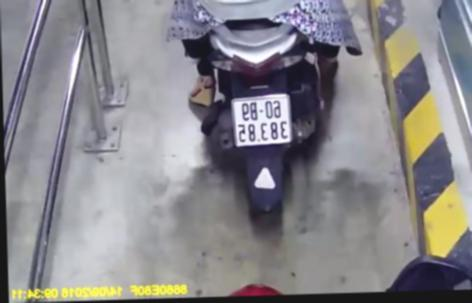License_Plate: (224, 89, 298, 155)
